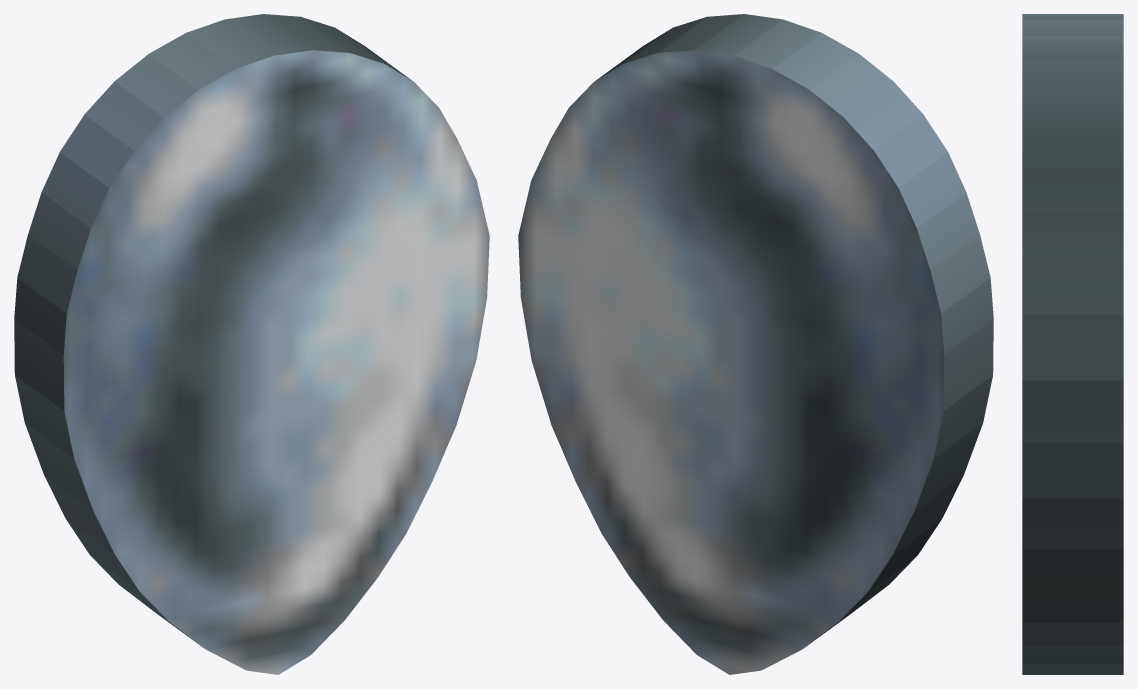
Rendered from Rarity_Common.glb.
The picture shows the model from 3 angles, left to right: view 1: azimuth 30°, elevation 25°; view 2: azimuth 150°, elevation 25°; view 3: azimuth 270°, elevation 25°; orthographic projection. The views are drawn at different scales.
Parts seen in each view (by area): view 1: Circle; view 2: Circle; view 3: Circle.
Boxes of the visible parts, x1,y1,x2,y2 form: Circle: (14,14,489,674); Circle: (518,14,993,674); Circle: (1022,14,1123,674).
Bounding box in the file's own units: 0.4969 × 0.6914 × 0.1.
Materials: 1 (1 with a texture image).
